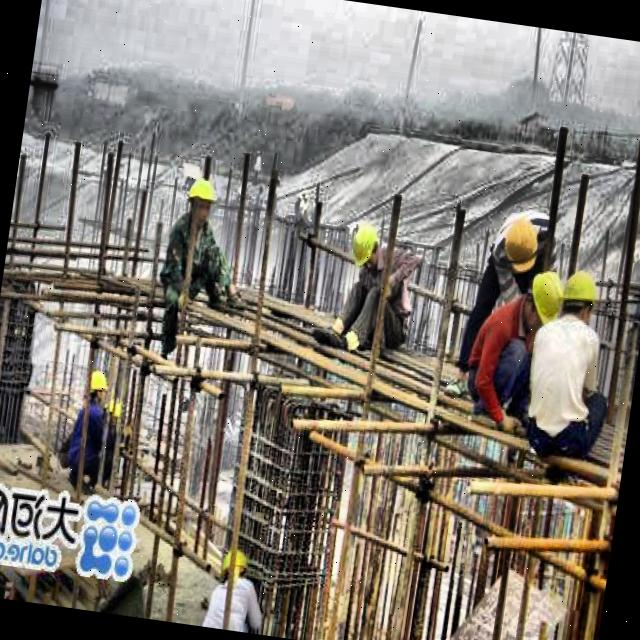helmet: (492, 209, 547, 281), (557, 264, 605, 332), (522, 269, 570, 331), (180, 170, 222, 232), (348, 222, 388, 278), (78, 362, 113, 410), (217, 542, 253, 586)
